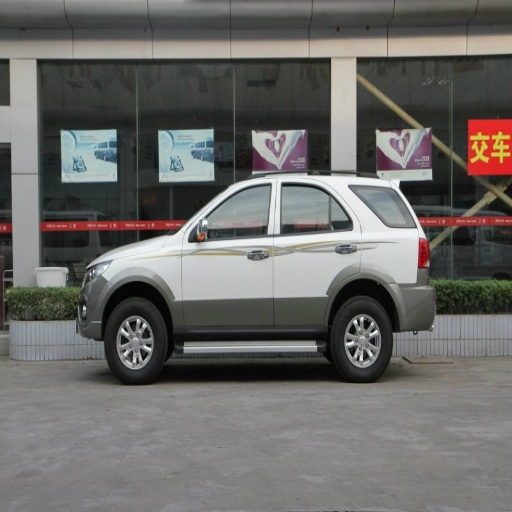back_glass: (354, 186, 413, 227)
back_left_door: (275, 179, 362, 328)
front_left_door: (183, 180, 274, 327)
